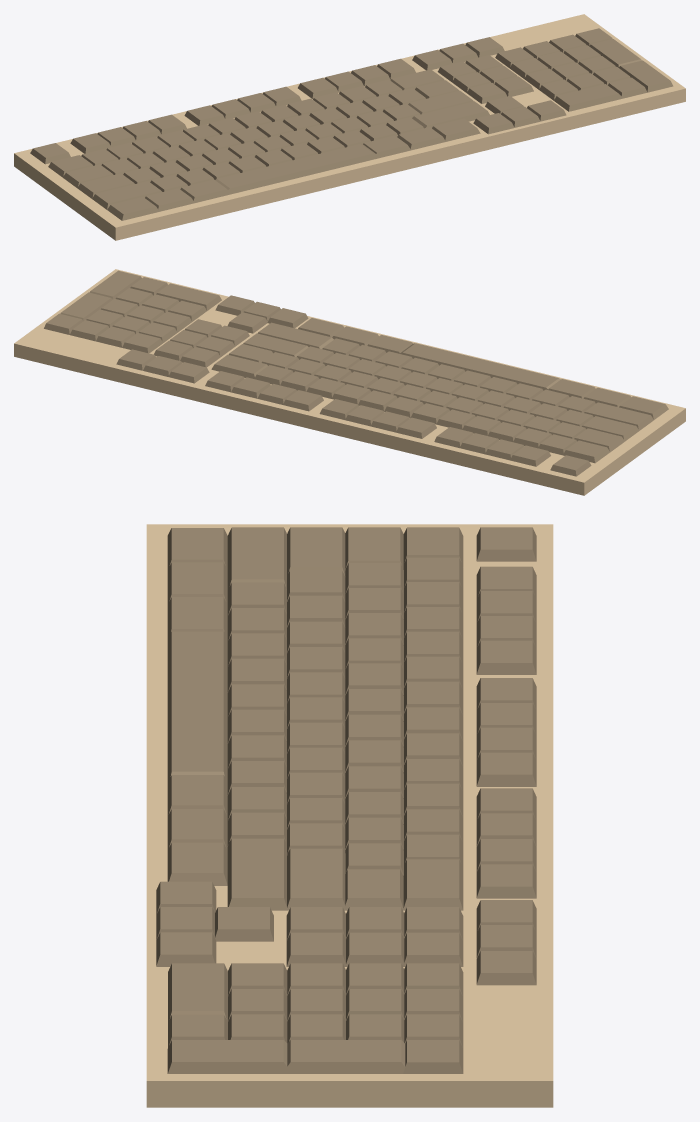
File: Keyboard.fbx
3 renders of one model, top to bottom at view 1: azimuth 30°, elevation 25°; view 2: azimuth 150°, elevation 25°; view 3: azimuth 270°, elevation 25°, orthographic. The views are drawn at different scales.
Parts seen in each view (by area): view 1: Keyboard; view 2: Keyboard; view 3: Keyboard.
Boxes of the visible parts, x1,y1,x2,y2 form: Keyboard: [14, 14, 685, 240]; Keyboard: [14, 269, 685, 495]; Keyboard: [146, 524, 553, 1107].
Size of the model in its own units: 526 by 162 by 16.25.
